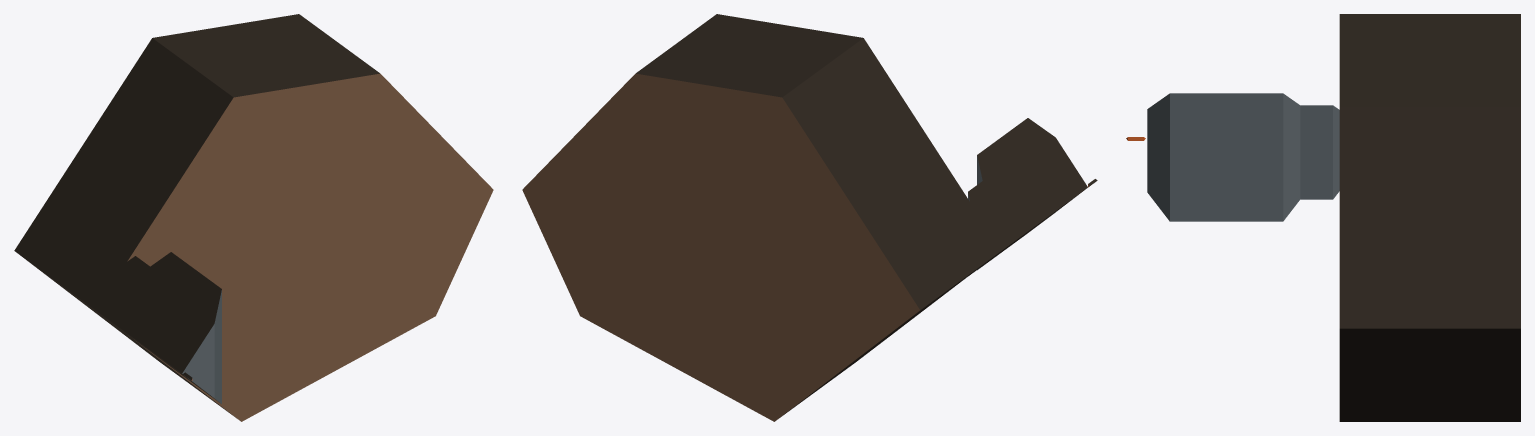
Rendered from SM_DoorShard_02_04.fbx.
3 views of the same model, side by side, from view 1: azimuth 30°, elevation 25°; view 2: azimuth 150°, elevation 25°; view 3: azimuth 270°, elevation 25° (orthographic). The views are drawn at different scales.
Visible parts, largest first — view 1: SM_DoorShard_02_04; view 2: SM_DoorShard_02_04; view 3: SM_DoorShard_02_04.
Part boxes in pixels (x1,y1,x2,y2): SM_DoorShard_02_04: (14,14,493,421); SM_DoorShard_02_04: (522,14,1097,421); SM_DoorShard_02_04: (1126,14,1520,421).
Bounding box in the file's own units: 45.18 × 34.88 × 35.39.
